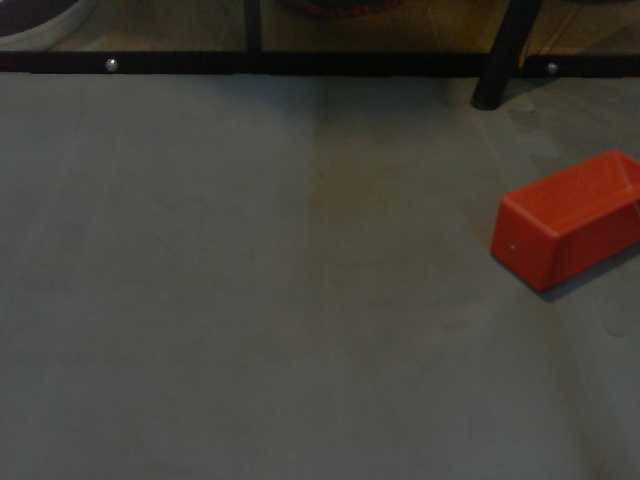RedSample: (485, 149, 640, 297)
